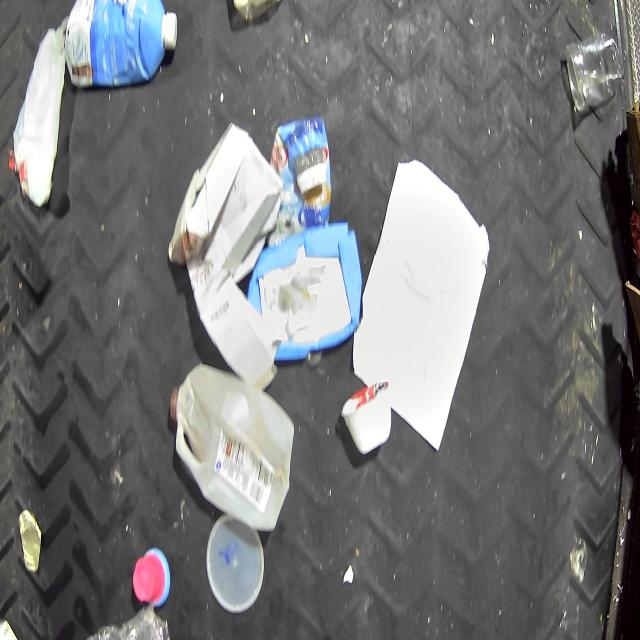can: (17, 507, 41, 572), (0, 615, 26, 640)
milk_jug: (169, 362, 295, 534)
non_white_jug: (248, 216, 362, 358), (62, 0, 175, 89)
